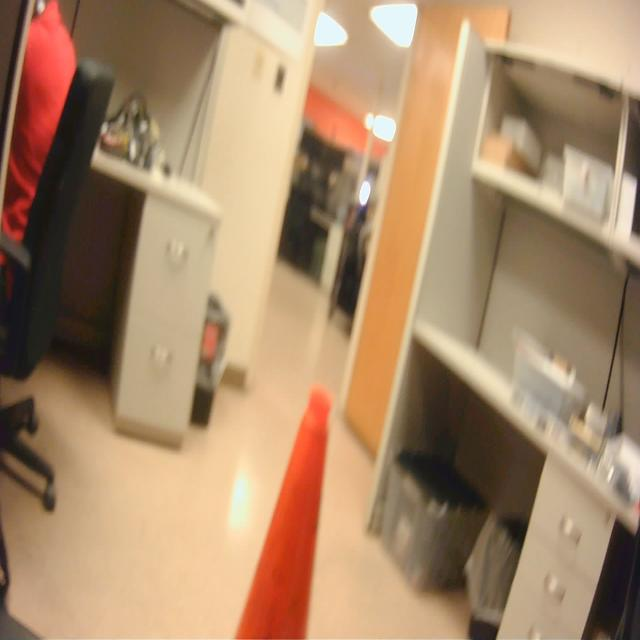traffic cone: (223, 379, 340, 640)
